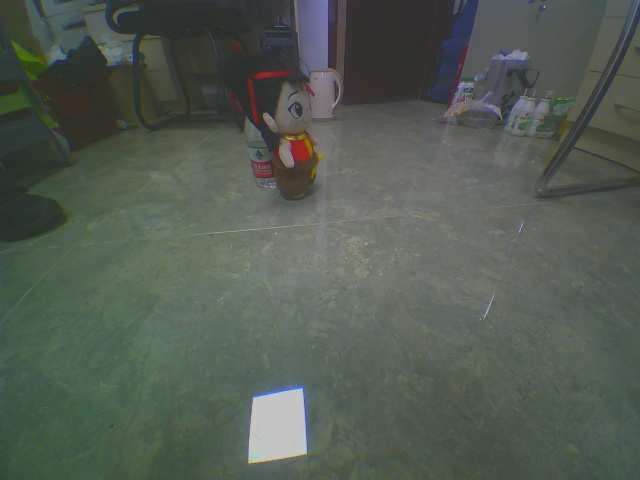Nezha2: (215, 45, 324, 201)
